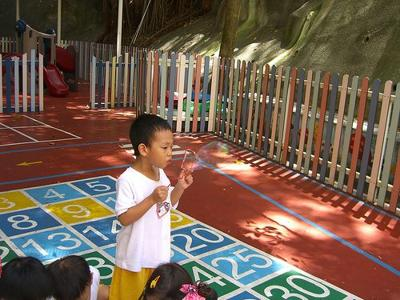person: (109, 113, 194, 300)
